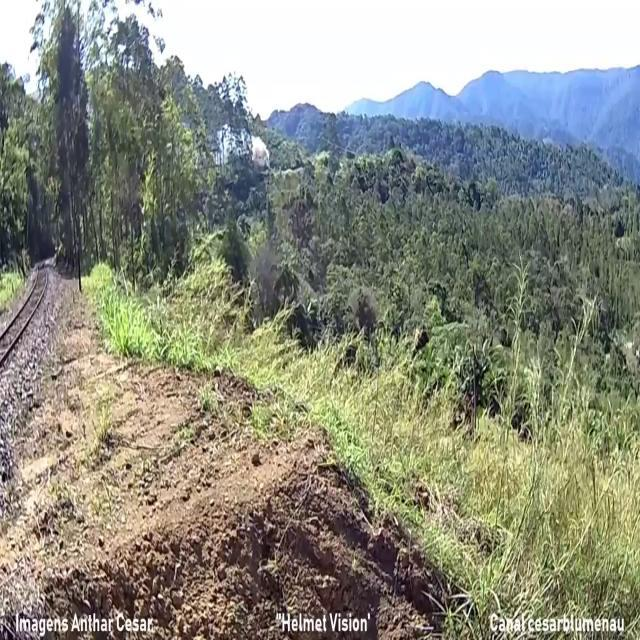Smoke: (251, 130, 271, 168)
